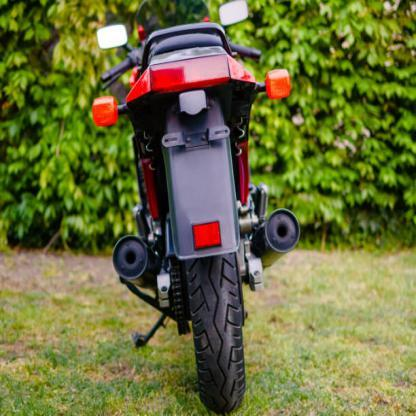Motorcycle: (83, 0, 307, 415)
